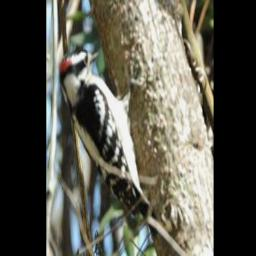Woodpecker: (59, 47, 151, 219)
